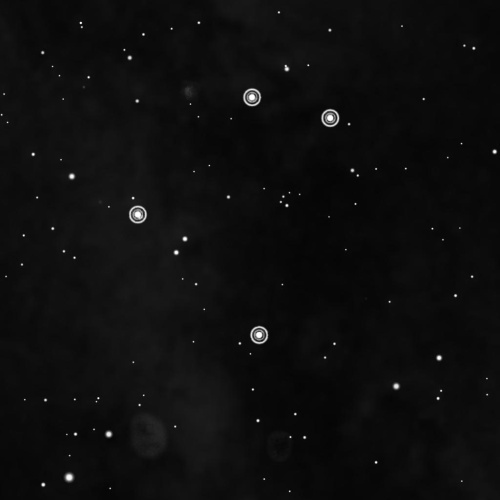coma_berenices: (113, 71, 353, 356)
